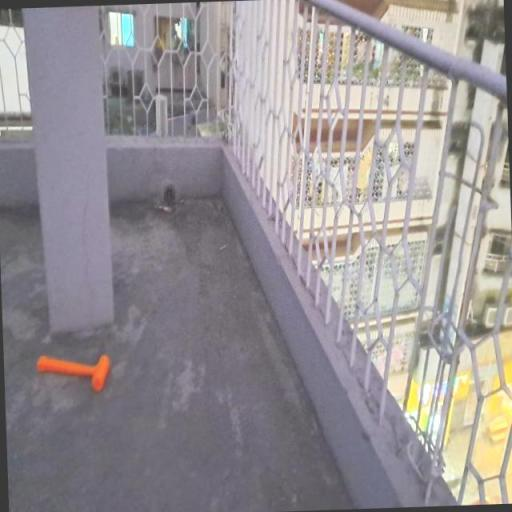mallet: (37, 348, 112, 390)
